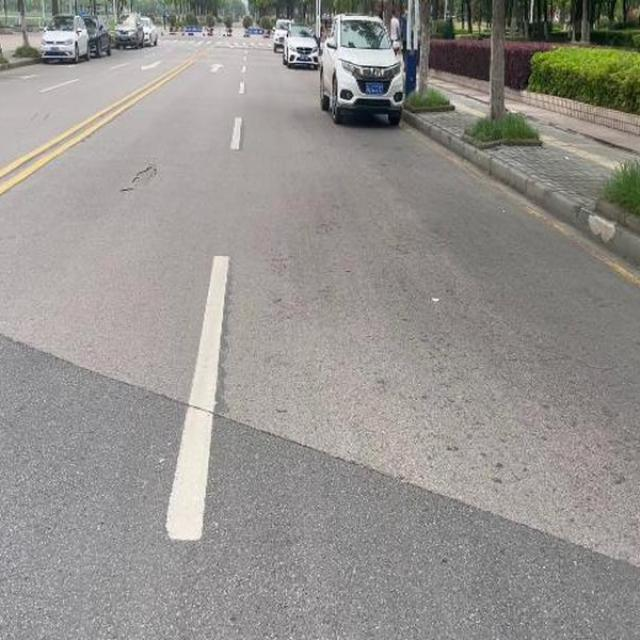Sambungan: (0, 330, 640, 640)
